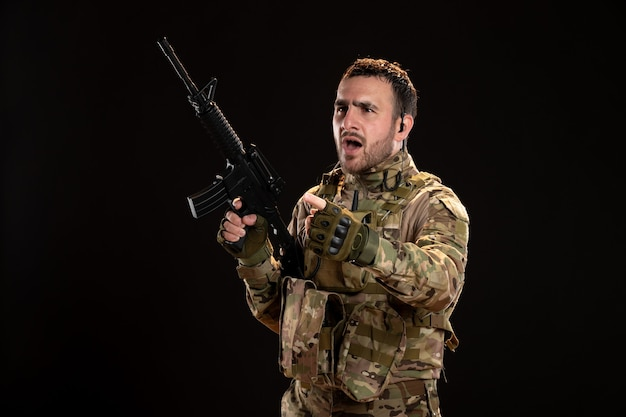gun: (153, 35, 299, 258)
